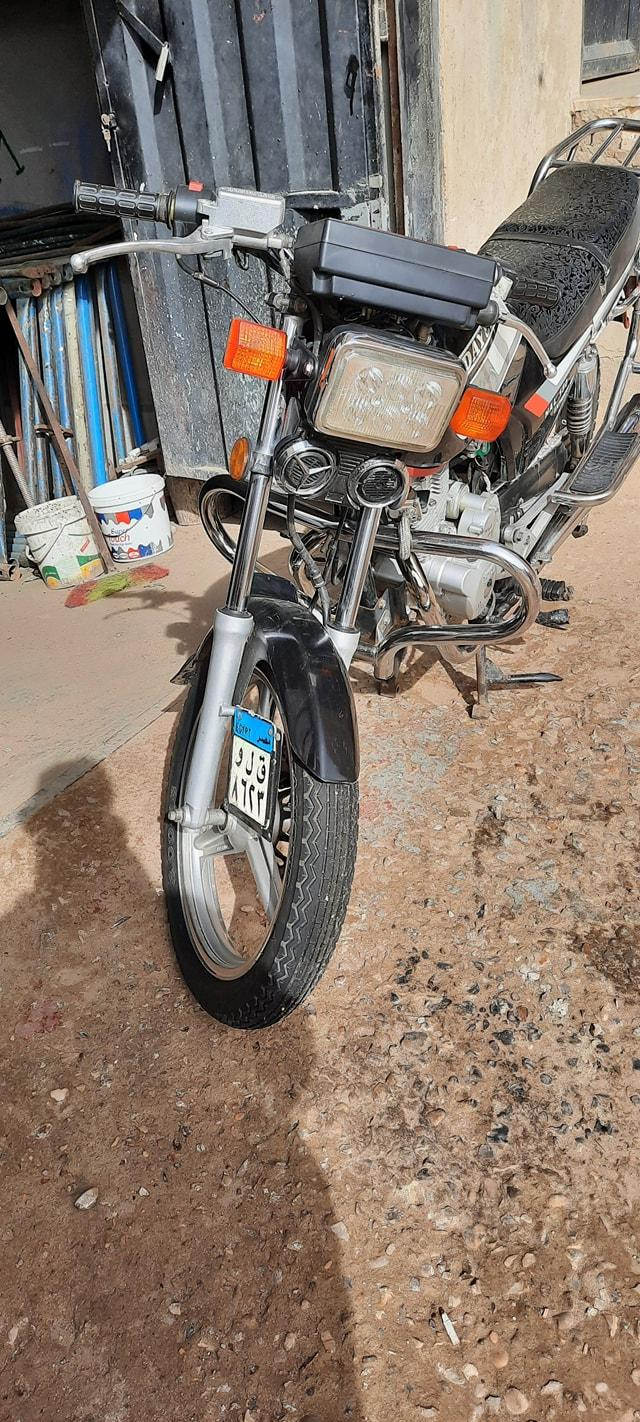License Plate: (226, 702, 274, 831)
